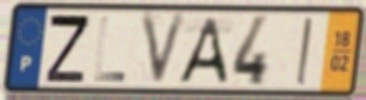4: (230, 13, 272, 89)
A: (175, 15, 230, 86)
I: (294, 15, 314, 89)
L: (92, 14, 128, 84)
V: (137, 10, 191, 91)
Z: (44, 12, 92, 85)
